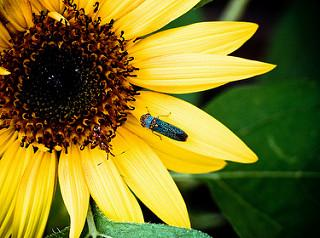sunflower: (0, 0, 276, 238)
